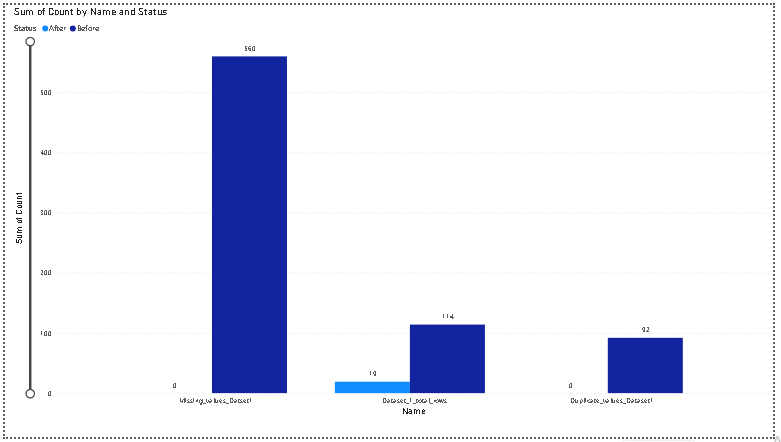

The page's visual inventory and layout, read from the dashboard file:
{"tool":"powerbi","page":{"name":"Dataset1","canvas":[1280,720],"ordinal":0},"visuals":[{"type":"clusteredColumnChart","fields":{"Y":["Sum(Append1.Count)"],"Category":["Append1.Name"],"Series":["Append1.Status"]},"box":[9.5,0,1270.5,689.2],"z":0}]}

Visuals, with their boxes in screenshot pixels (x1, y1, x2, y2), scaled from the page's 1280x720 canvas onto the 781x442 screenshot:
clusteredColumnChart - Sum(Append1.Count) x Append1.Name: crop(6, 0, 780, 423)
